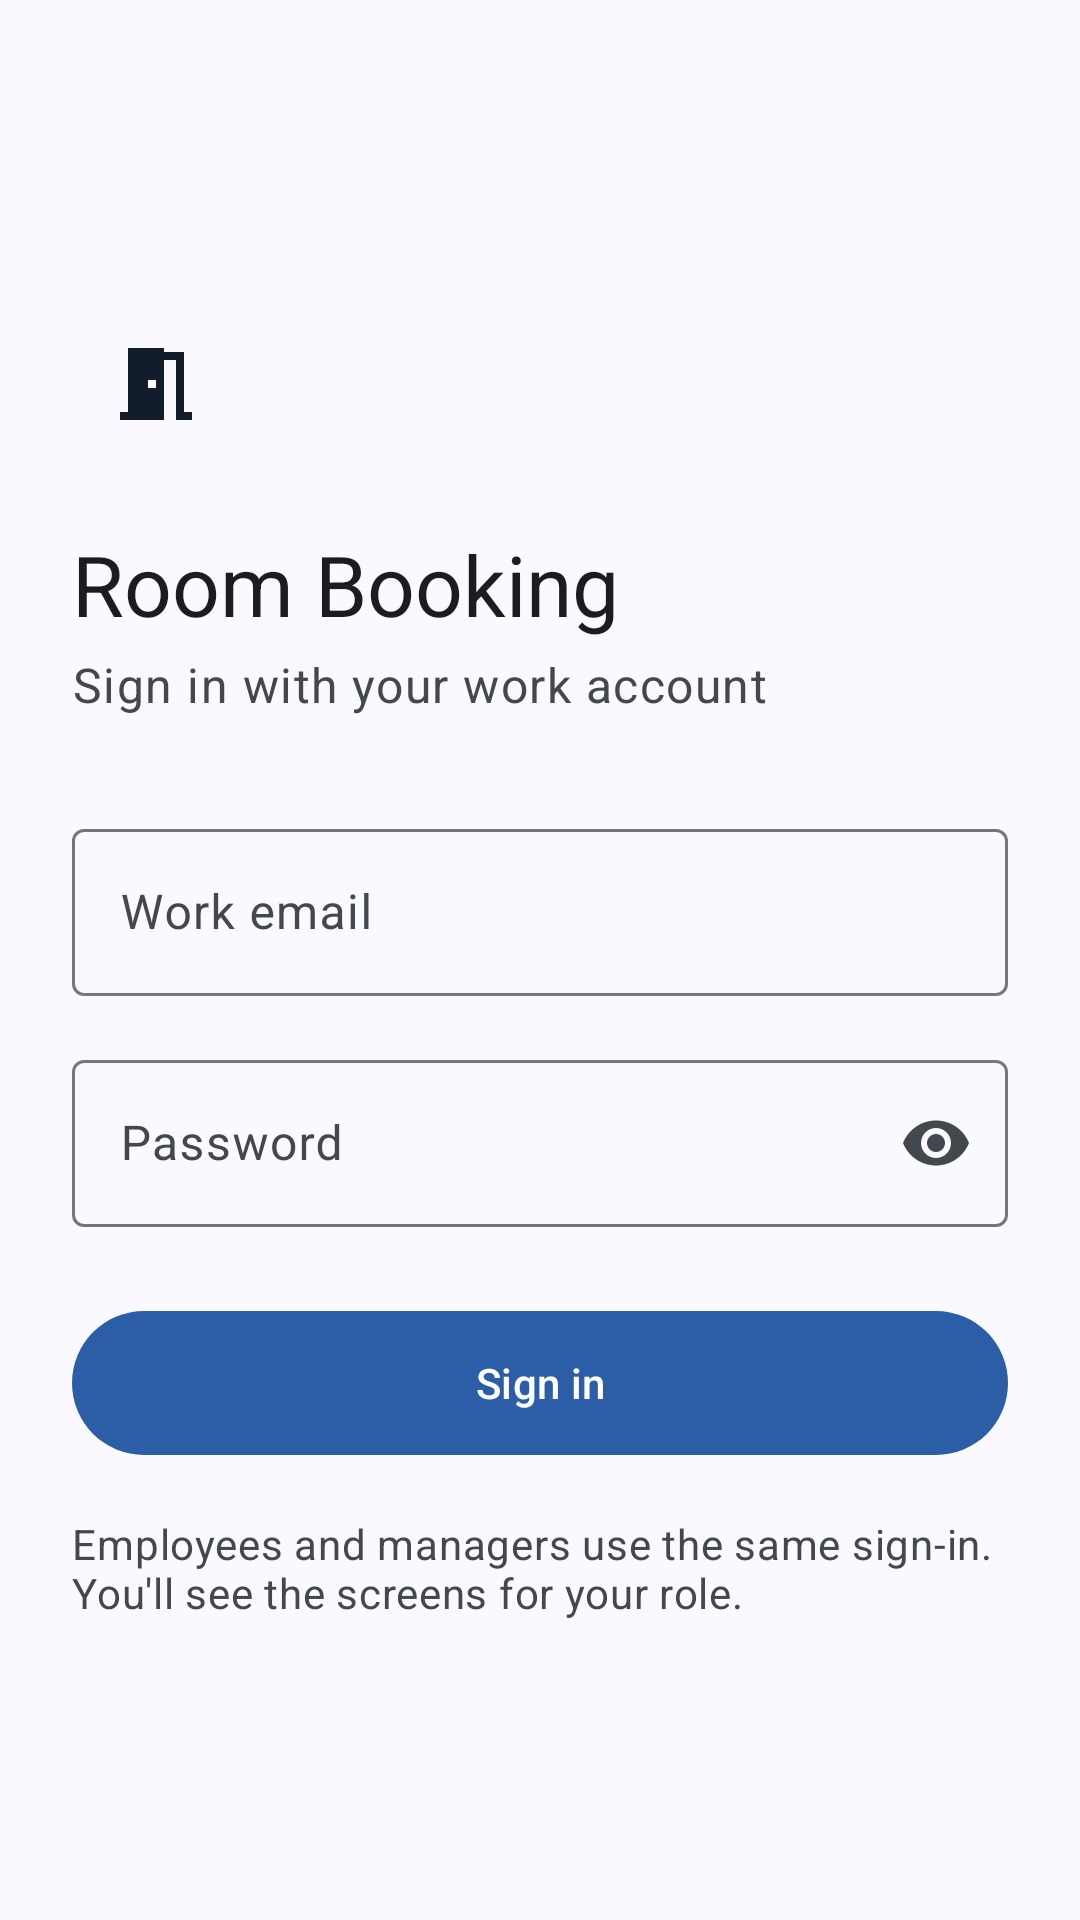

Icons on this 1080×1920 Android screen, each with its box as bbox(x1, y1, x2, y2):
meeting room: bbox(120, 348, 192, 420)
